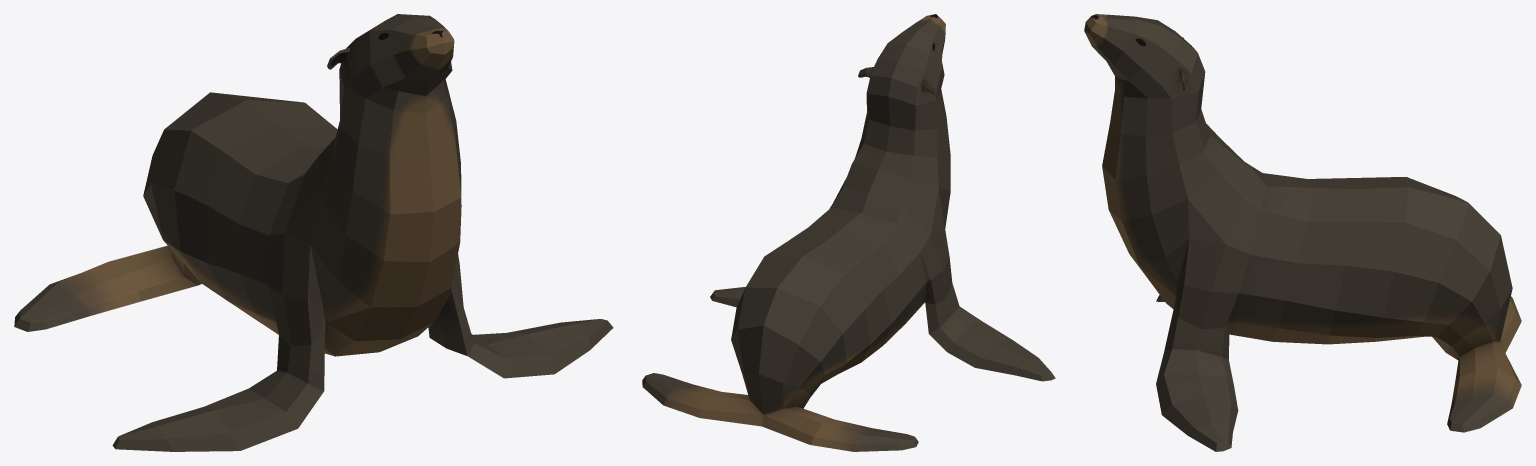
File: SeaLion.obj
3 views of the same model, side by side, from view 1: azimuth 30°, elevation 25°; view 2: azimuth 150°, elevation 25°; view 3: azimuth 270°, elevation 25° (orthographic). The views are drawn at different scales.
Parts seen in each view (by area): view 1: SeaLion_Mesh; view 2: SeaLion_Mesh; view 3: SeaLion_Mesh.
Boxes of the visible parts, x1,y1,x2,y2 form: SeaLion_Mesh: [14, 14, 613, 451]; SeaLion_Mesh: [642, 14, 1055, 451]; SeaLion_Mesh: [1084, 14, 1521, 451].
Bounding box in the file's own units: 9.53 × 7.54 × 8.86.
Materials: 1 (1 with a texture image).
